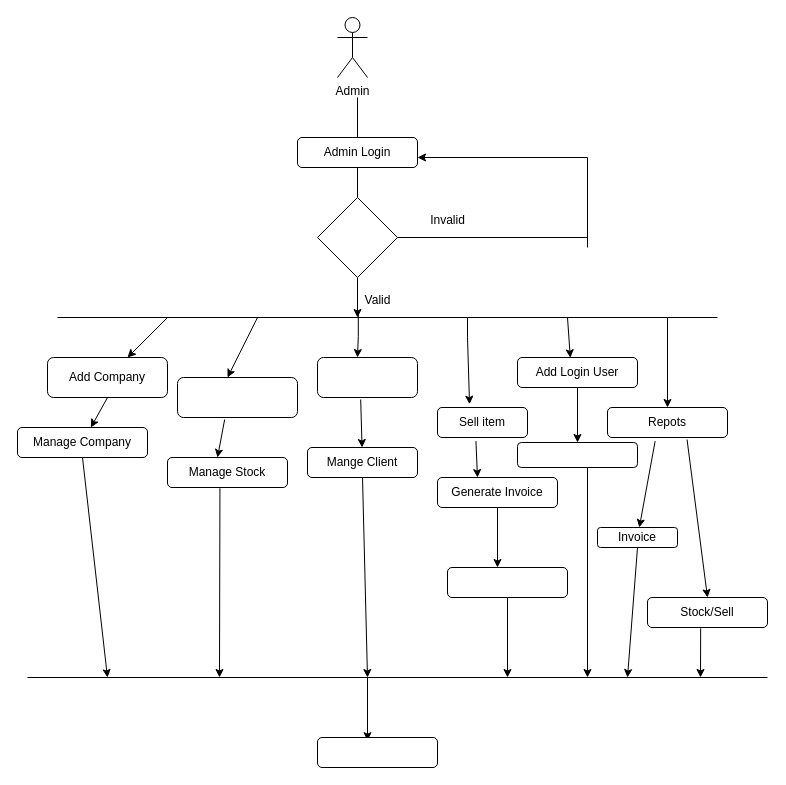
The diagram is 786 pixels wide and 785 high, and some of its shapes have lost their labels. The centre of each missing label's shape, as x and y in pixels:
Add client: pixel 367 377
Add medicine stock: pixel 237 397
Authen: pixel 357 237
Logout: pixel 377 752
Manage User: pixel 577 455
Print Invoice: pixel 507 582
